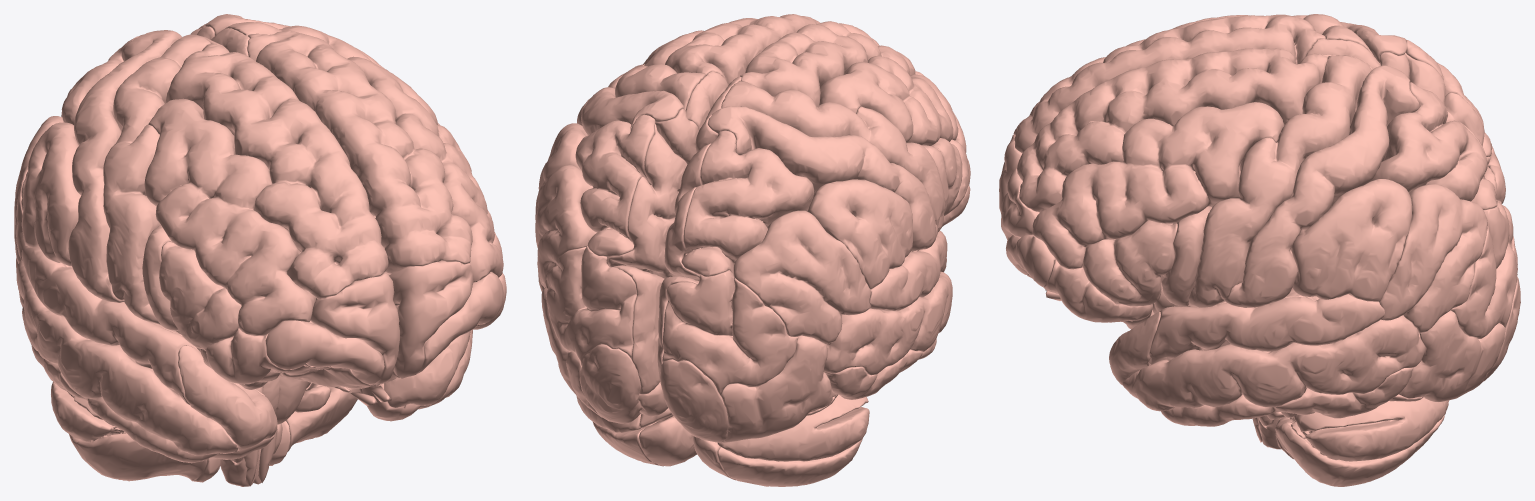
Rendered from brain_model.glb.
3 views of the same model, side by side, from view 1: azimuth 30°, elevation 25°; view 2: azimuth 150°, elevation 25°; view 3: azimuth 270°, elevation 25° (orthographic). The views are drawn at different scales.
Parts seen in each view (by area): view 1: superior_frontal_gyrus_L, middle_frontal_gyrus_L, superior_frontal_gyrus_R, middle_temporal_gyrus_L, precentral_gyrus_L, postcentral_gyrus_L, superior_temporal_gyrus_L, middle_frontal_gyrus_R, supramarginal_gyrus_L, rostral_gyrus_R, lateral_hemisphere_of_cerebellum_L, inferior_frontal_gyrus_triangular_part_L (+19 smaller); view 2: angular_gyrus_L, supraparietal_lobule_L, superior_occipital_gyrus_L, postcentral_gyrus_L, lateral_hemisphere_of_cerebellum_L, superior_occipital_gyrus_R, supraparietal_lobule_R, precentral_gyrus_L, supramarginal_gyrus_L, middle_frontal_gyrus_L, superior_frontal_gyrus_L, inferior_occipital_gyrus_L (+24 smaller); view 3: middle_frontal_gyrus_R, superior_frontal_gyrus_R, middle_temporal_gyrus_R, precentral_gyrus_R, postcentral_gyrus_R, supramarginal_gyrus_R, angular_gyrus_R, superior_temporal_gyrus_R, lateral_hemisphere_of_cerebellum_R, superior_frontal_gyrus_L, supraparietal_lobule_R, inferior_frontal_gyrus_triangular_part_R (+16 smaller).
Part boxes in pixels (x1,y1,x2,y2): superior_frontal_gyrus_L: [165, 43, 388, 299]; middle_frontal_gyrus_L: [144, 98, 315, 335]; superior_frontal_gyrus_R: [247, 31, 472, 273]; middle_temporal_gyrus_L: [16, 260, 238, 455]; precentral_gyrus_L: [103, 34, 210, 325]; postcentral_gyrus_L: [68, 30, 181, 302]; superior_temporal_gyrus_L: [21, 245, 196, 404]; middle_frontal_gyrus_R: [347, 56, 503, 282]; supramarginal_gyrus_L: [21, 122, 81, 266]; rostral_gyrus_R: [389, 260, 473, 378]; lateral_hemisphere_of_cerebellum_L: [51, 382, 207, 481]; inferior_frontal_gyrus_triangular_part_L: [159, 241, 241, 350]; angular_gyrus_L: [733, 210, 870, 344]; supraparietal_lobule_L: [681, 130, 814, 276]; superior_occipital_gyrus_L: [662, 270, 798, 395]; postcentral_gyrus_L: [707, 106, 938, 251]; lateral_hemisphere_of_cerebellum_L: [717, 394, 869, 486]; superior_occipital_gyrus_R: [546, 245, 636, 365]; supraparietal_lobule_R: [575, 114, 655, 256]; precentral_gyrus_L: [721, 81, 944, 231]; supramarginal_gyrus_L: [807, 179, 912, 289]; middle_frontal_gyrus_L: [819, 55, 966, 152]; superior_frontal_gyrus_L: [740, 21, 923, 106]; inferior_occipital_gyrus_L: [721, 335, 836, 442]; middle_frontal_gyrus_R: [1032, 102, 1284, 269]; superior_frontal_gyrus_R: [1017, 48, 1327, 212]; middle_temporal_gyrus_R: [1122, 315, 1425, 411]; precentral_gyrus_R: [1188, 55, 1371, 307]; postcentral_gyrus_R: [1225, 65, 1420, 307]; supramarginal_gyrus_R: [1290, 179, 1412, 301]; angular_gyrus_R: [1379, 184, 1487, 333]; superior_temporal_gyrus_R: [1149, 294, 1384, 365]; lateral_hemisphere_of_cerebellum_R: [1267, 397, 1448, 486]; superior_frontal_gyrus_L: [1013, 14, 1325, 153]; supraparietal_lobule_R: [1371, 82, 1497, 209]; inferior_frontal_gyrus_triangular_part_R: [1082, 220, 1177, 306].
Size of the model in its own units: 2.19 by 2.34 by 2.68.
